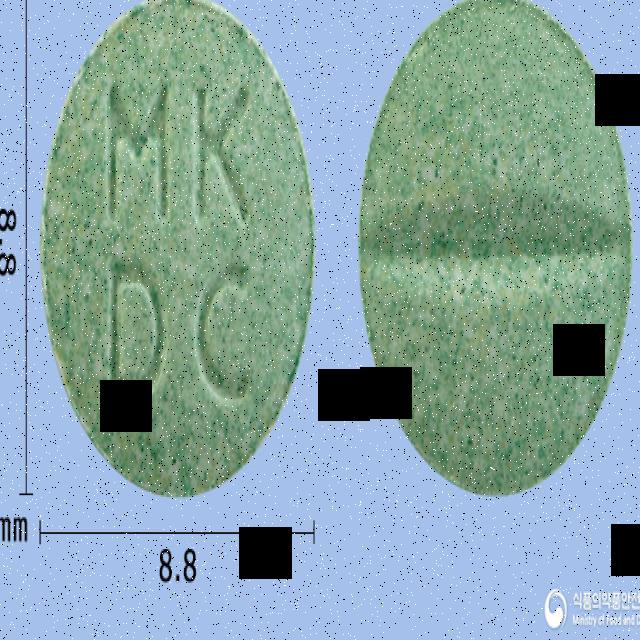Bydoxy: (38, 0, 318, 507)
